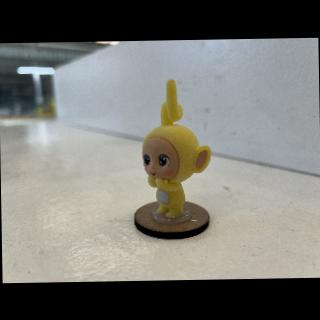teletubby: (142, 79, 210, 218)
